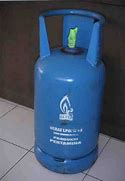blue_gas: (32, 8, 107, 175)
